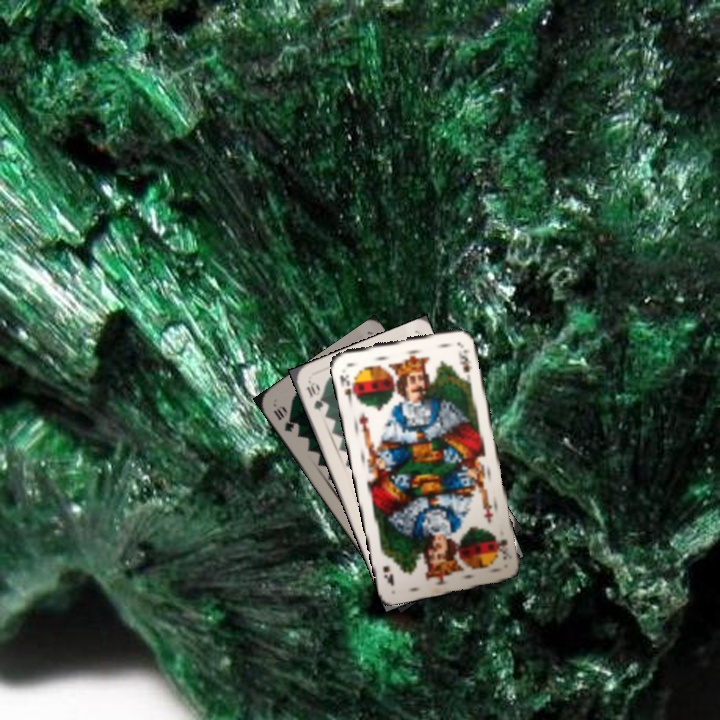G10: (269, 402, 298, 435), (302, 378, 326, 415)
SK: (336, 370, 360, 405), (495, 535, 515, 562)
